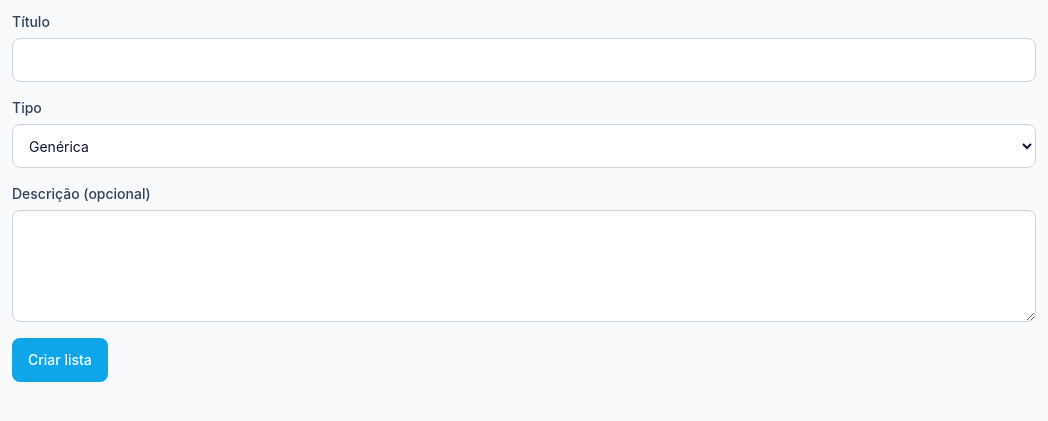
Test: ListForm (integration) › does not submit when the title is empty
Step 1. Click the button "Criar lista" → (60, 360), box [12,338,108,382]
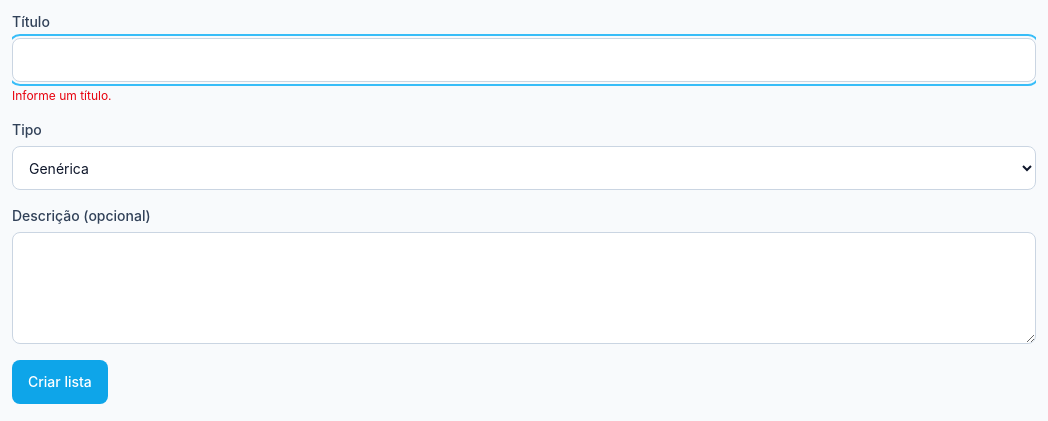
expect the text "Informe um título." is shown: met, box [12,88,112,103]
